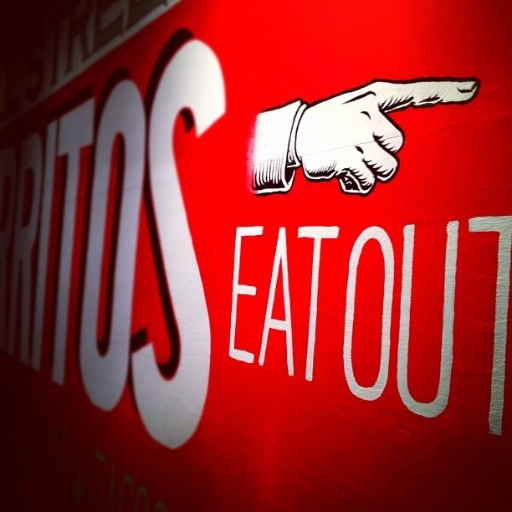hand: (245, 68, 484, 194)
